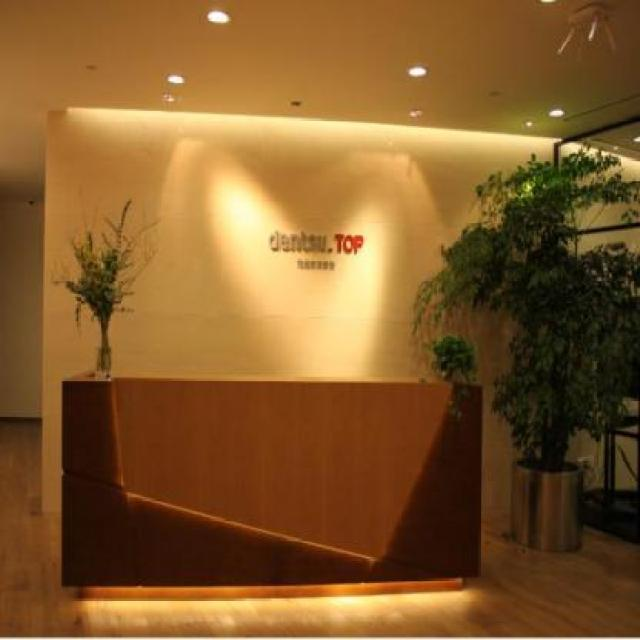frontdesk: (52, 357, 487, 612)
